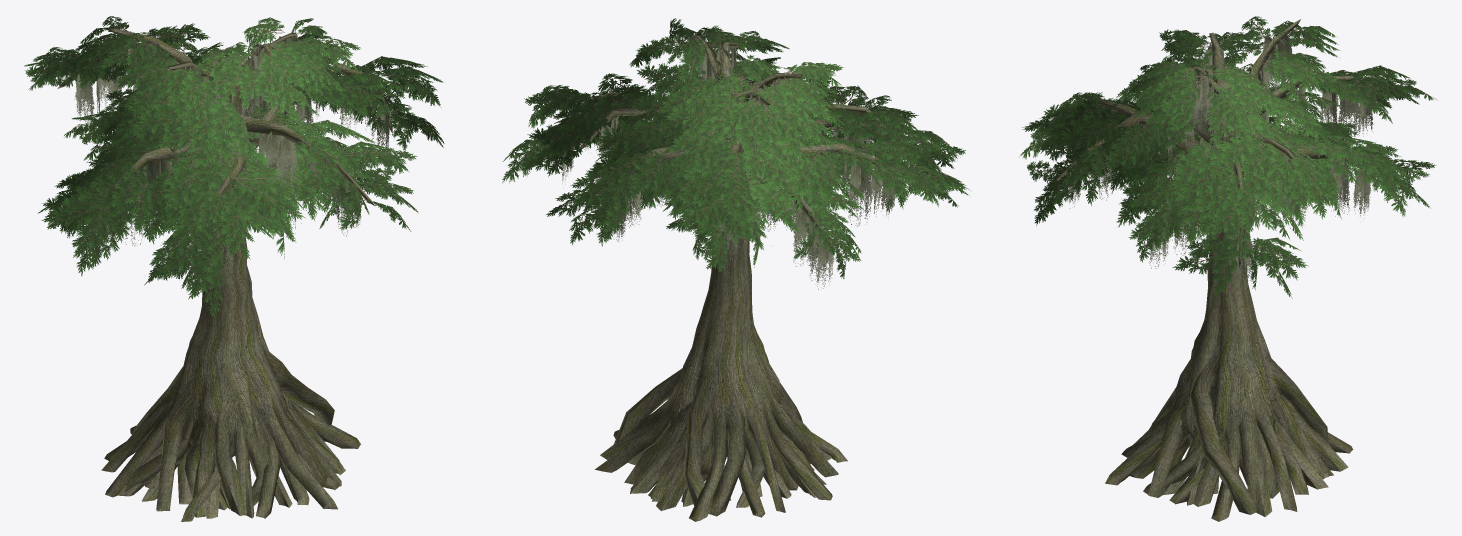
The model's file is great_bald_cypress.glb.
3 renders of one model, left to right at view 1: azimuth 30°, elevation 25°; view 2: azimuth 150°, elevation 25°; view 3: azimuth 270°, elevation 25°, orthographic. The views are drawn at different scales.
Parts seen in each view (by area): view 1: bald_cypress_03:Mesh; view 2: bald_cypress_03:Mesh; view 3: bald_cypress_03:Mesh.
Boxes of the visible parts, bbox=[...] form: bald_cypress_03:Mesh: bbox=[24, 16, 444, 521]; bald_cypress_03:Mesh: bbox=[502, 18, 970, 521]; bald_cypress_03:Mesh: bbox=[1019, 16, 1436, 521].
Size of the model in its own units: 1225 by 1152 by 1083.
4 materials, 4 textured.
